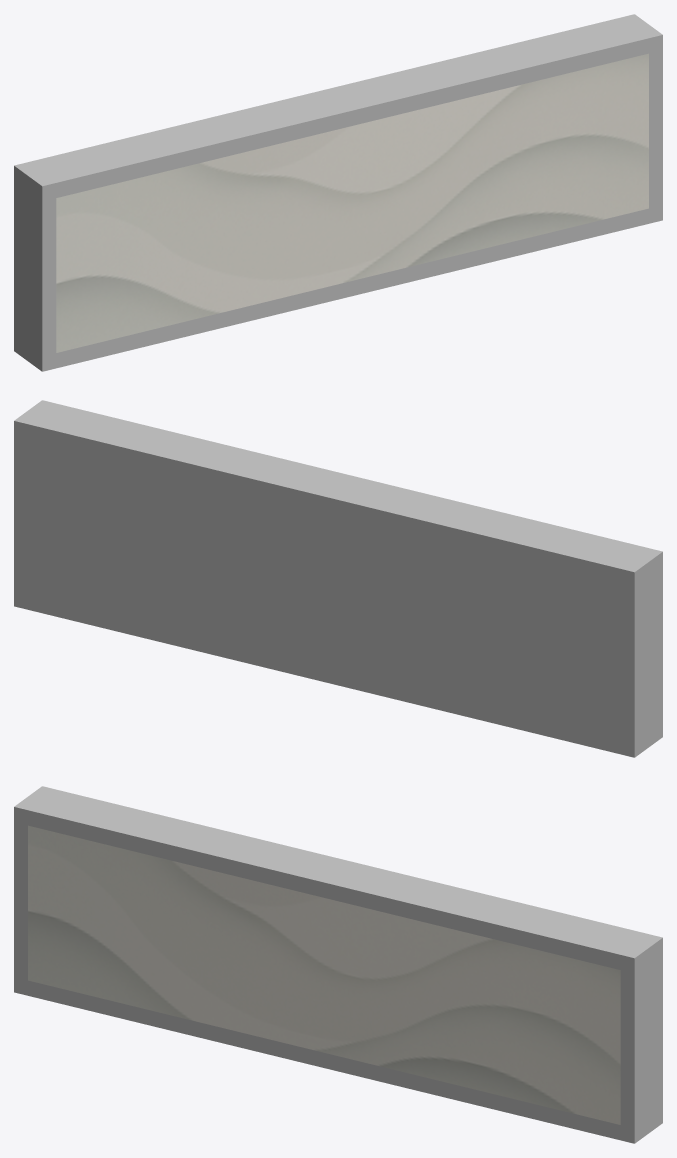
Rendered from Billboard_4x1_04.fbx.
3 views of the same model, one above another, from view 1: azimuth 30°, elevation 25°; view 2: azimuth 150°, elevation 25°; view 3: azimuth 330°, elevation 25° (orthographic).
Parts seen in each view (by area): view 1: Billboard_4x1_04; view 2: Billboard_4x1_04; view 3: Billboard_4x1_04.
Boxes of the visible parts, x1,y1,x2,y2 form: Billboard_4x1_04: (14, 14, 662, 371); Billboard_4x1_04: (14, 400, 662, 757); Billboard_4x1_04: (14, 786, 662, 1143).
Size of the model in its own units: 962 by 75.97 by 275.
